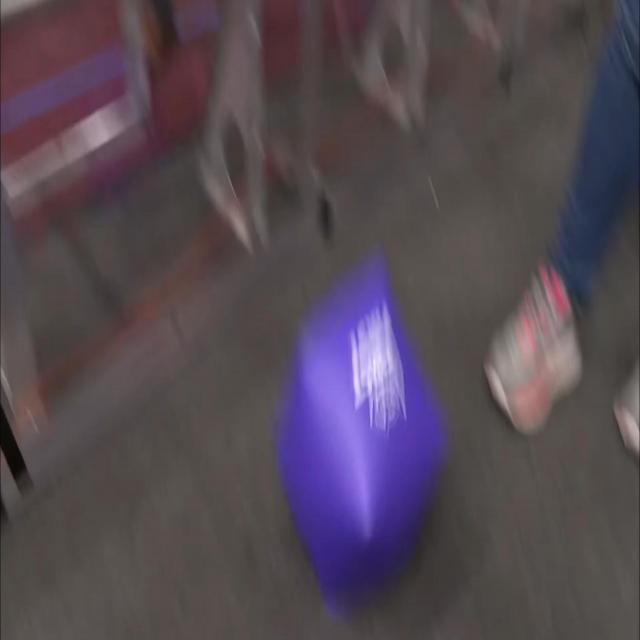frc_cube: (269, 254, 448, 617)
